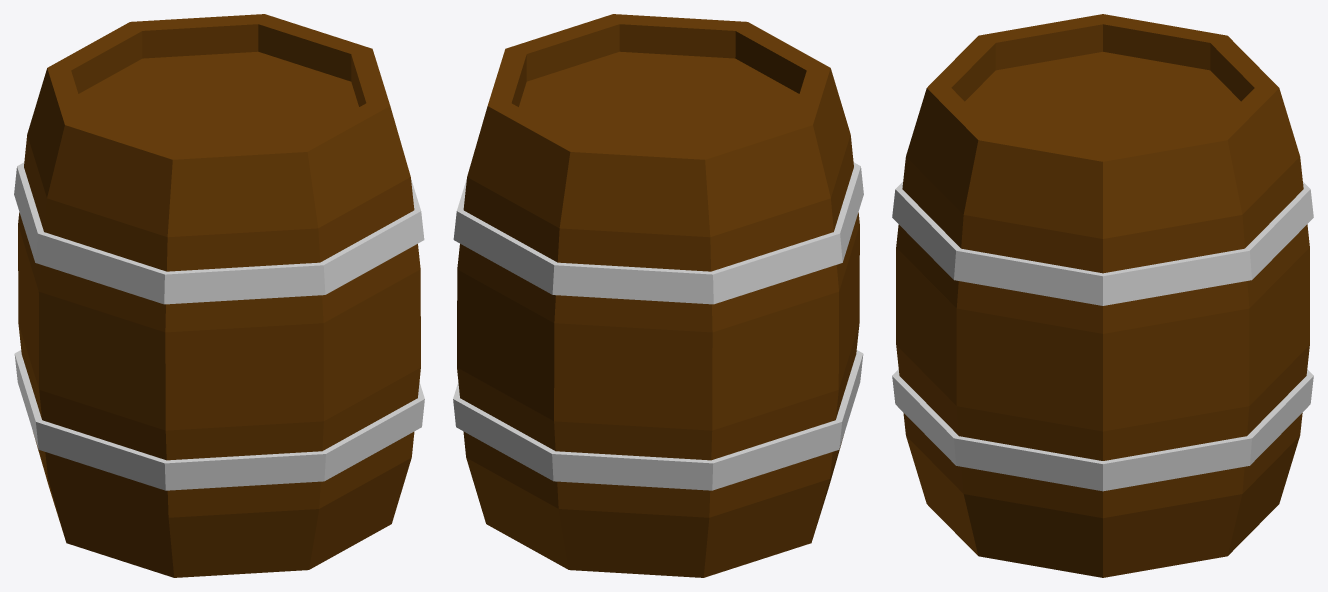
The model's file is egg.glb.
3 renders of one model, left to right at view 1: azimuth 30°, elevation 25°; view 2: azimuth 150°, elevation 25°; view 3: azimuth 270°, elevation 25°, orthographic.
Parts seen in each view (by area): view 1: Cylinder.003; view 2: Cylinder.003; view 3: Cylinder.003.
Part boxes in pixels (<box>): Cylinder.003: <box>14,14,424,577</box>; Cylinder.003: <box>453,14,863,577</box>; Cylinder.003: <box>892,14,1313,577</box>.
Size of the model in its own units: 2.79 by 3.04 by 2.79.
